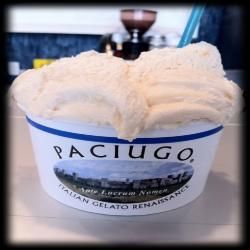icecream: (10, 39, 241, 183)
